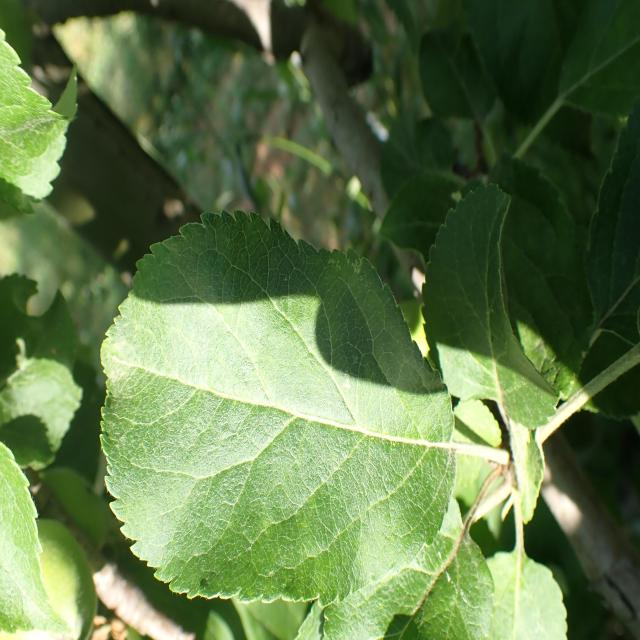healthy: (100, 208, 455, 607), (422, 180, 559, 430), (294, 529, 496, 640), (0, 272, 84, 470), (0, 441, 70, 638), (0, 28, 78, 202)
